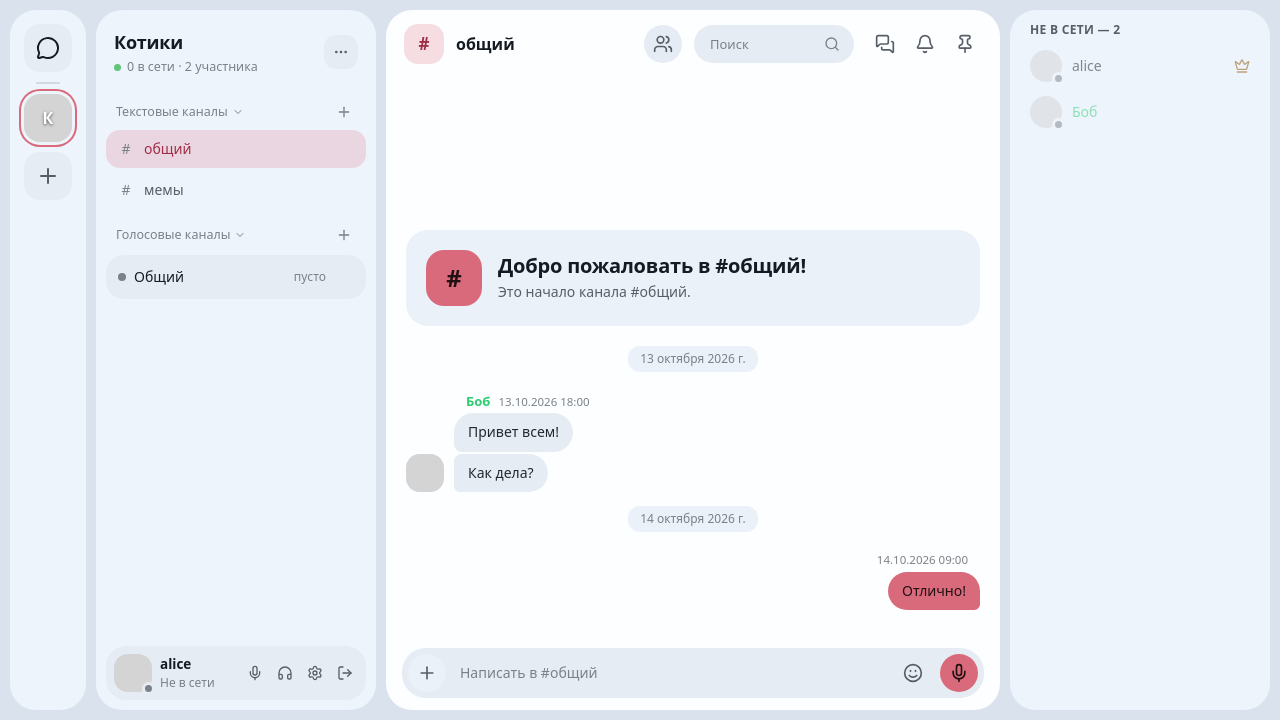
Test: editing and deleting › edits your own message inline
Right-click the list item "Отлично!" at coordinates (928, 580), box [876,551,980,610]
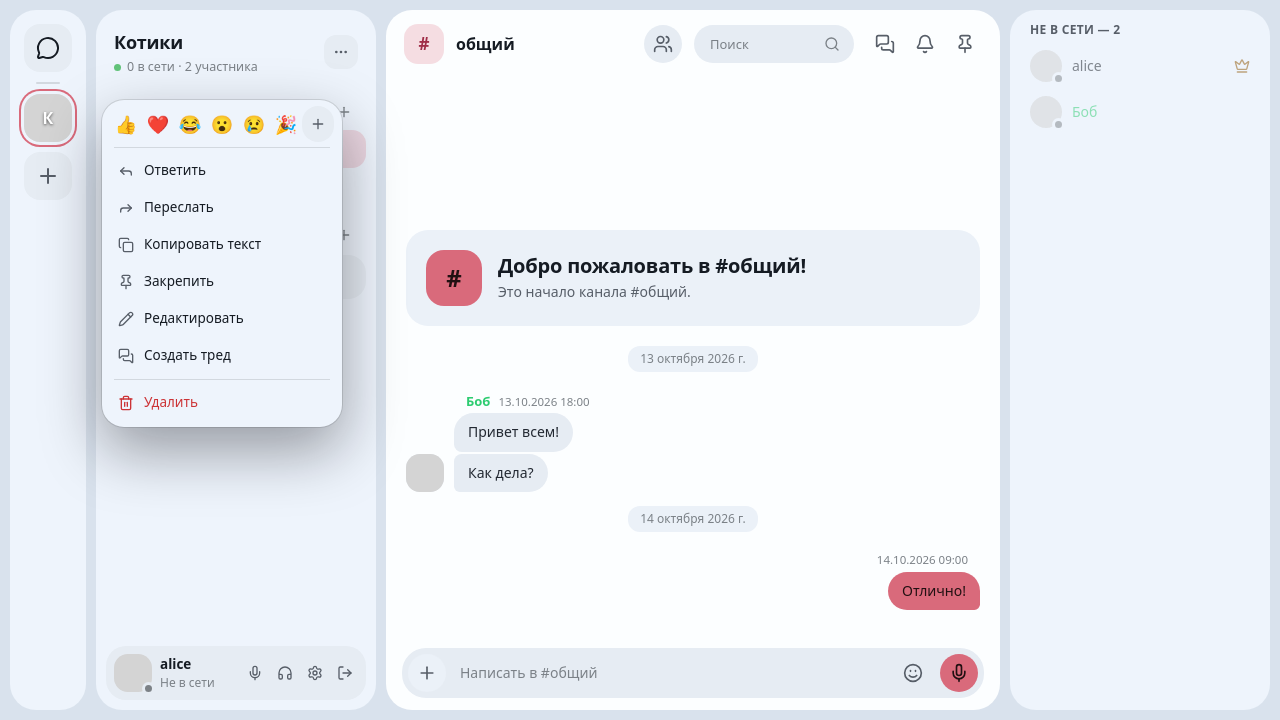
Click the menu item "Редактировать" at coordinates (181, 318), box [118,309,244,327]
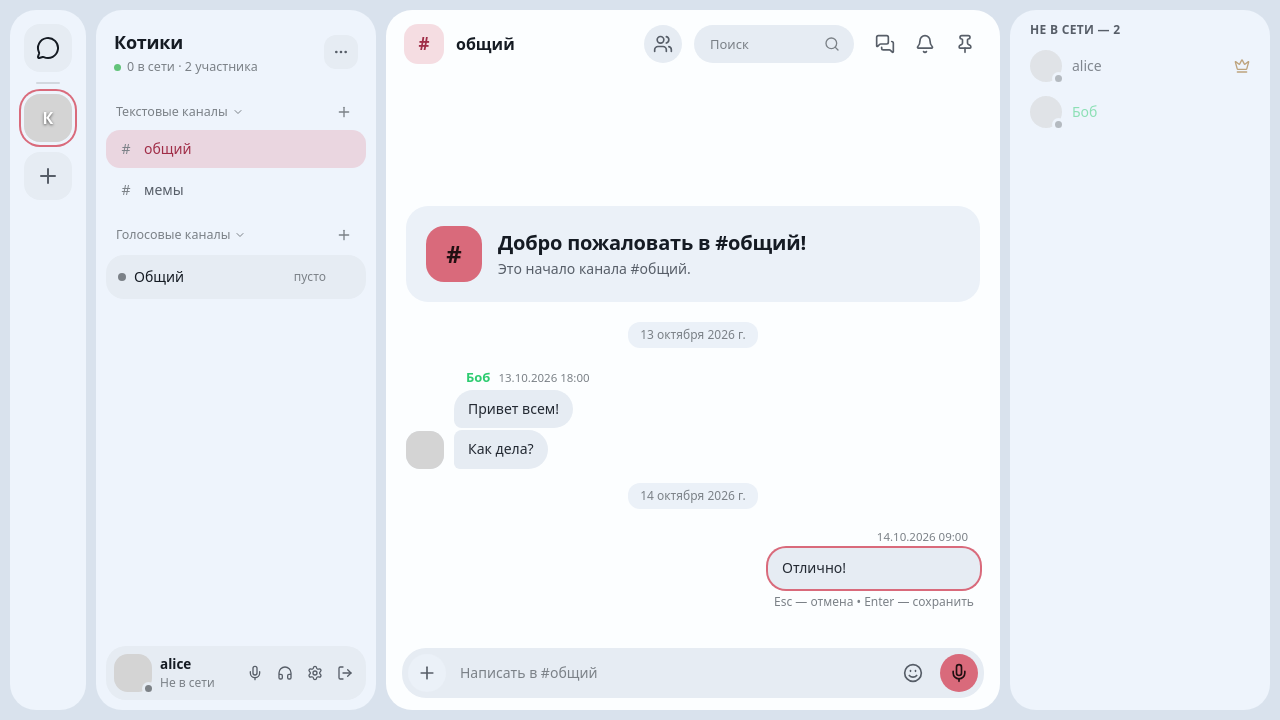
Replace the text in the text box named "Изменить сообщение" with "Просто отлично!" at coordinates (874, 569), box [768,548,980,589]
Then press Enter
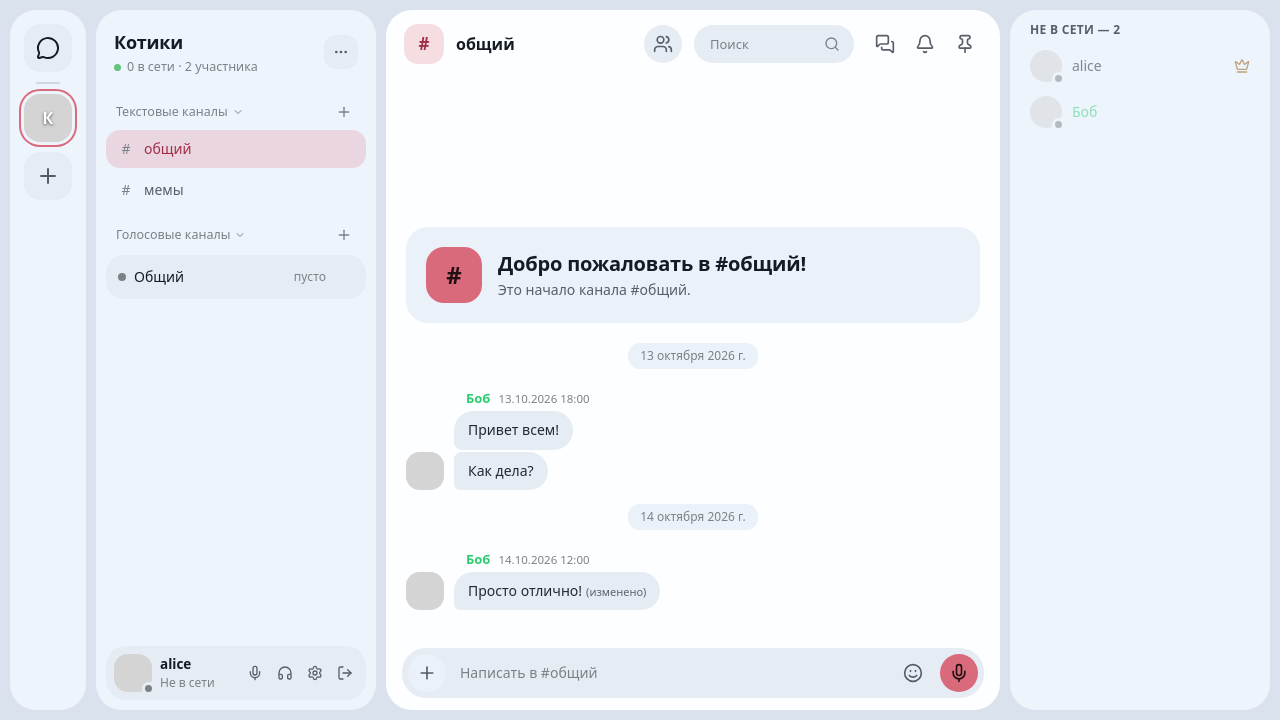
Check: the text "(изменено)" is shown, box [586,584,646,599]
